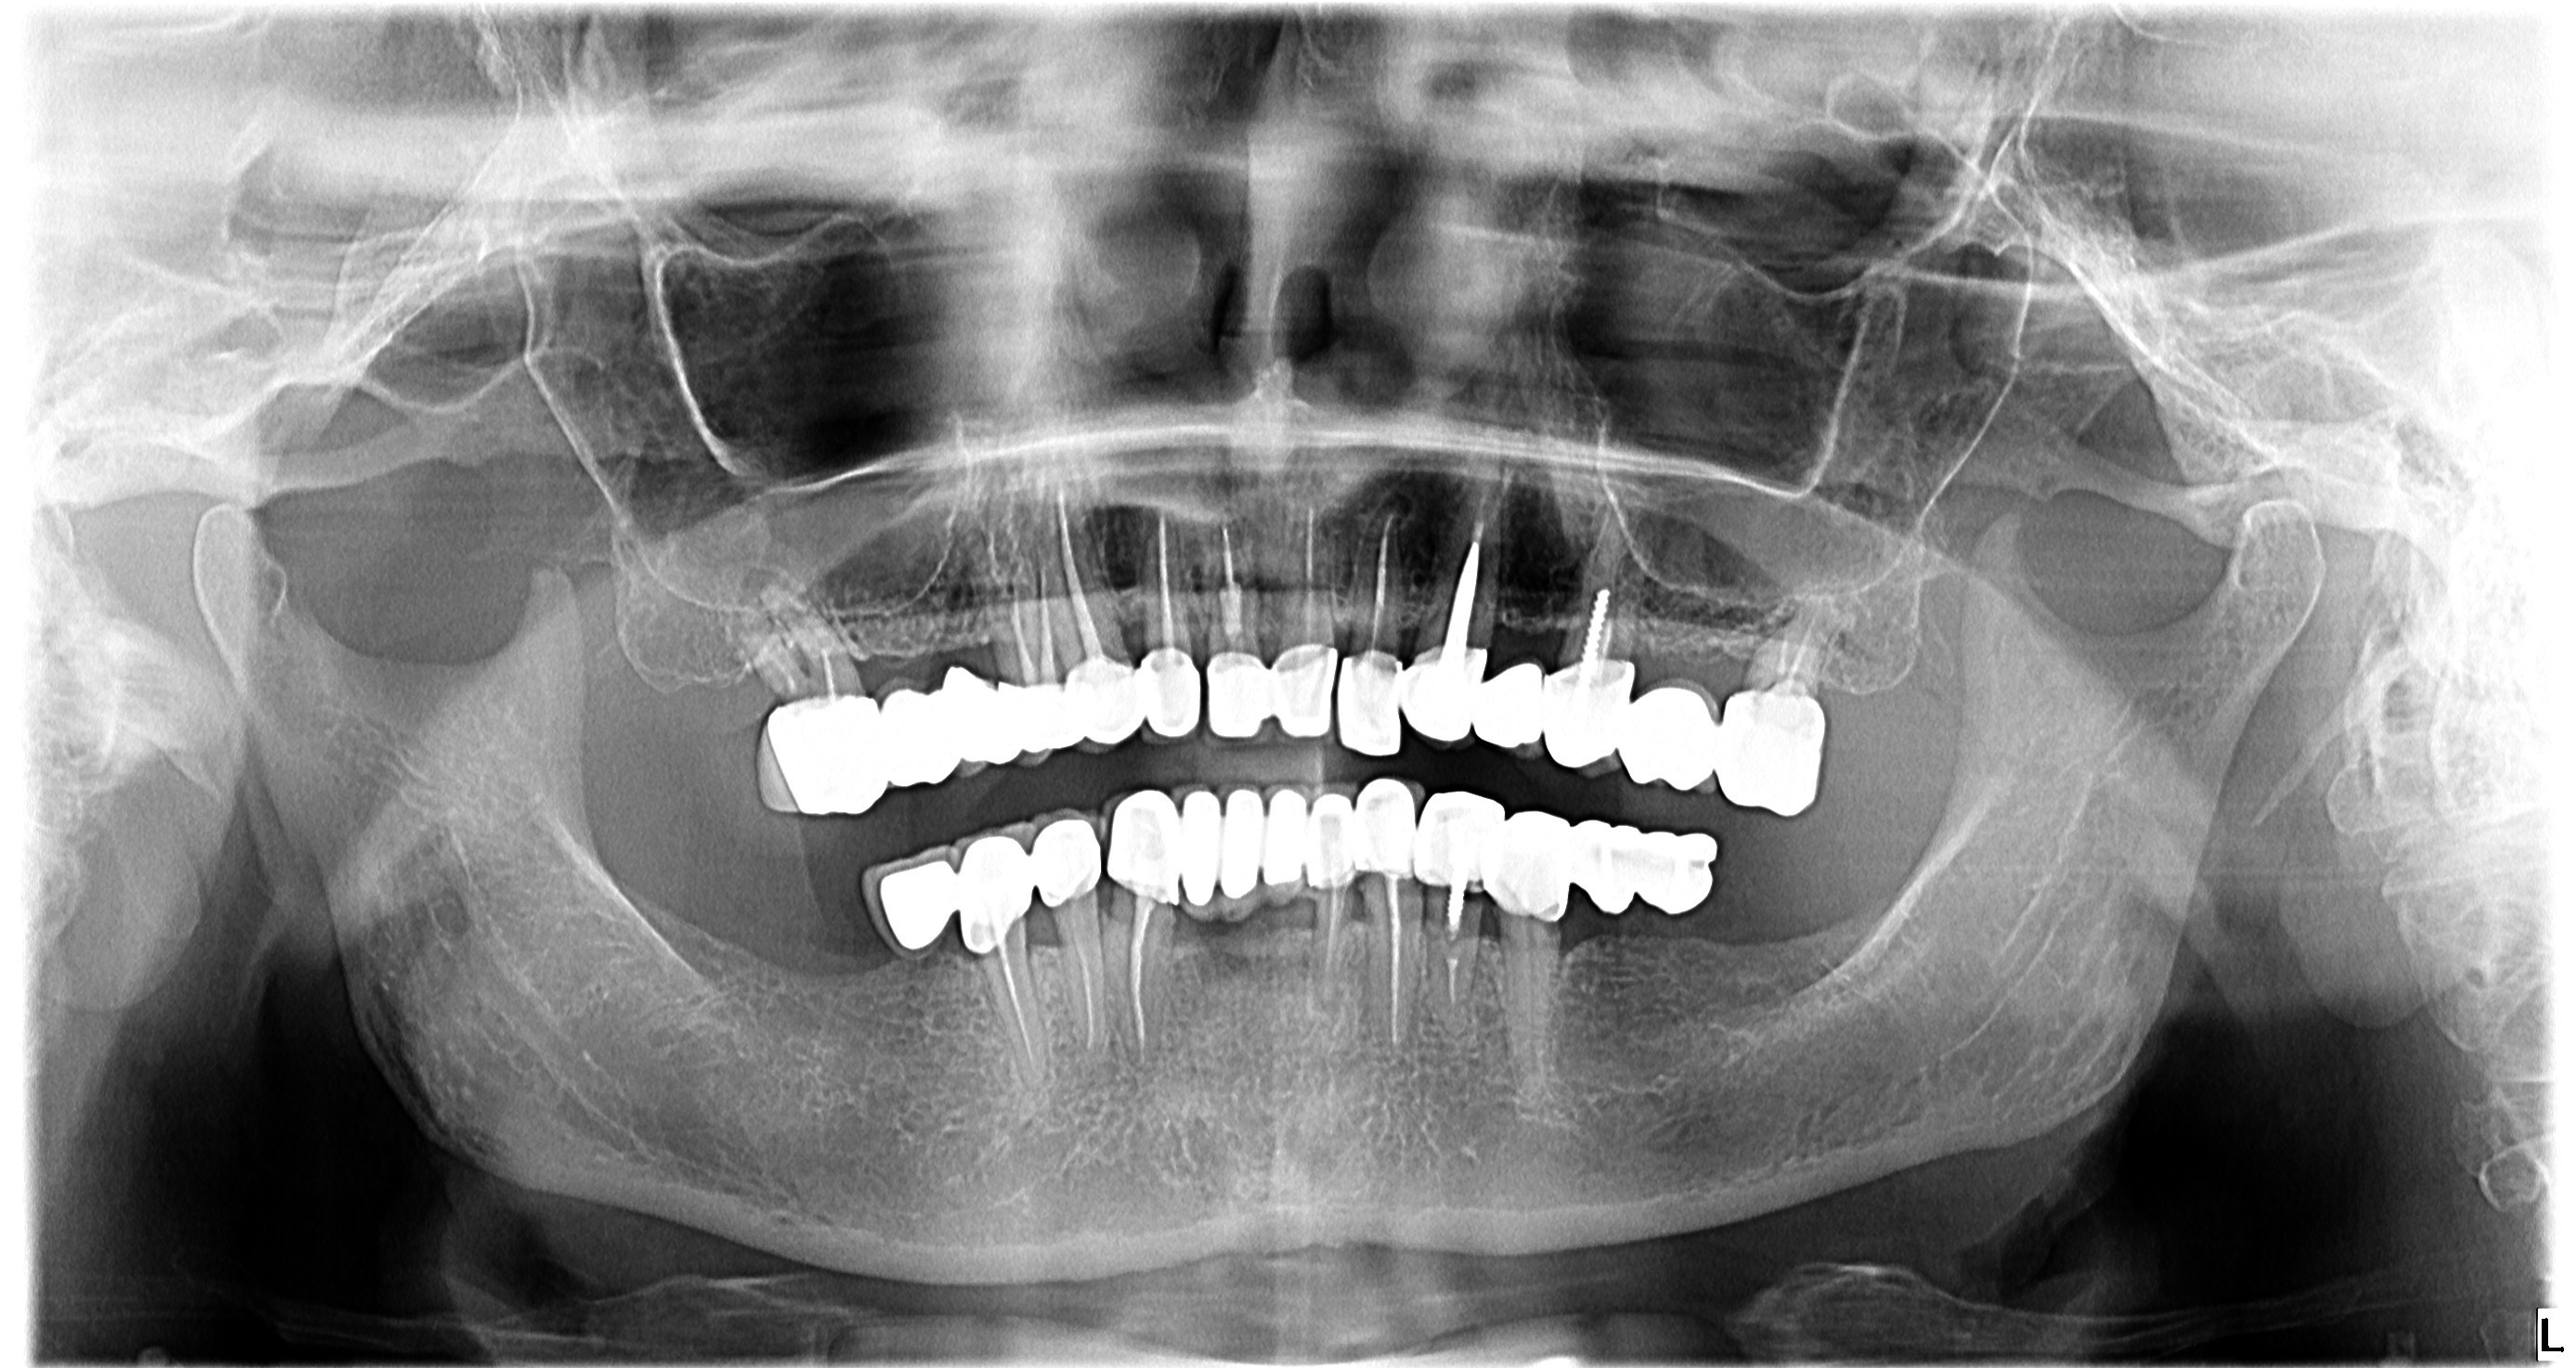END: (738, 588, 852, 722), (981, 925, 1049, 1092), (1056, 487, 1107, 704), (1281, 496, 1344, 670), (1000, 533, 1065, 692), (1566, 560, 1641, 687), (1116, 891, 1170, 1051), (1428, 882, 1481, 1036), (1060, 893, 1106, 1066), (1429, 514, 1484, 661), (1377, 871, 1417, 1056), (1208, 504, 1251, 676), (1755, 589, 1823, 697), (1300, 879, 1349, 1019), (1353, 513, 1397, 664), (1147, 503, 1179, 681)
PRR: (1465, 802, 1714, 937), (1101, 773, 1310, 917), (940, 651, 1131, 770), (956, 806, 1101, 957), (748, 685, 886, 826), (1704, 688, 1838, 818), (852, 838, 978, 976), (1203, 634, 1334, 750), (1406, 646, 1547, 753), (1613, 671, 1722, 797), (1308, 768, 1419, 882), (1542, 652, 1644, 775), (1414, 782, 1515, 898), (1319, 642, 1407, 765), (876, 680, 957, 797), (1123, 642, 1206, 751)
